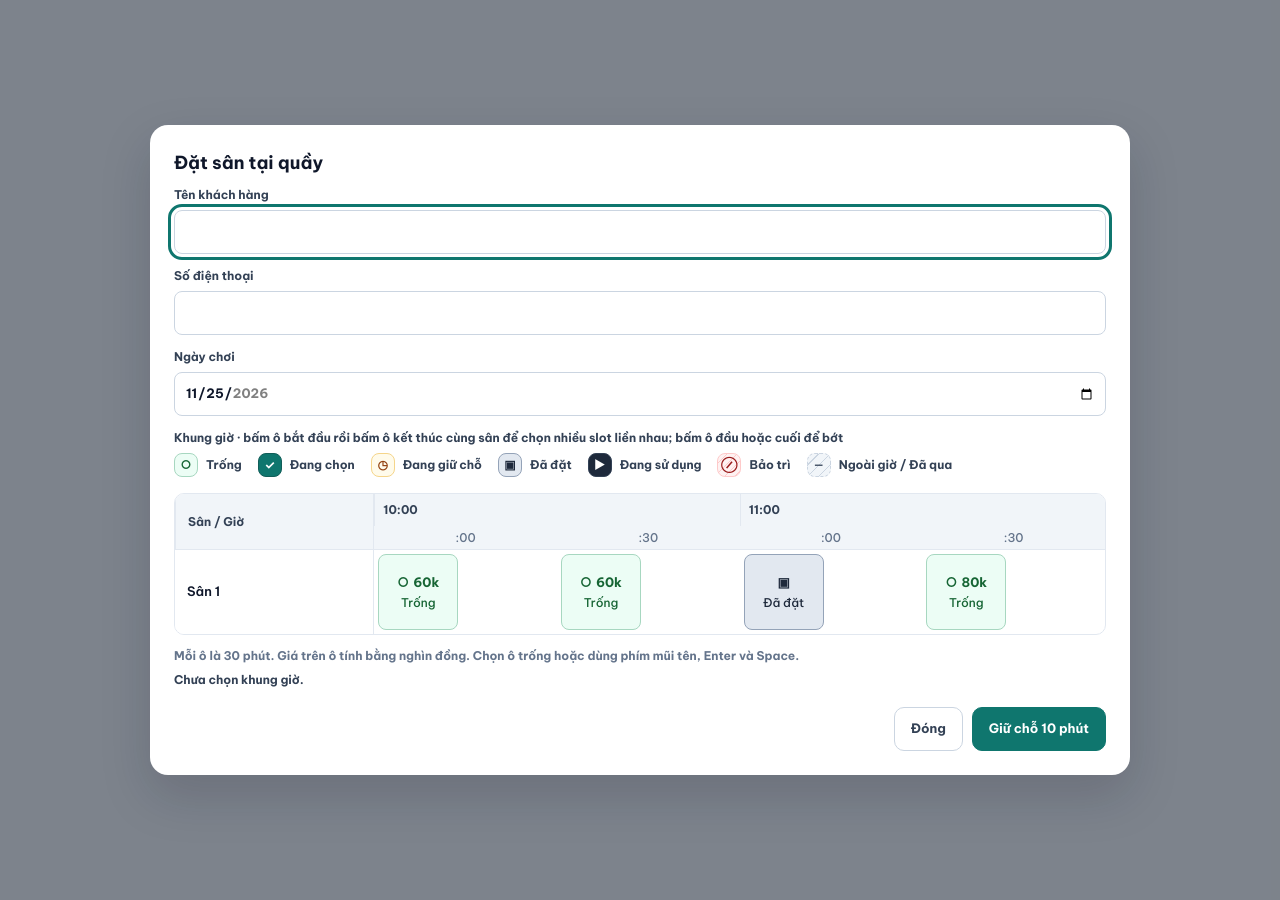
Test: giữ chỗ › slot vừa bị người khác đặt (MSG28) thì báo ở bảng và tải lại lịch
The width and height of the screenshot is (1280, 900).
expect the table named "Lịch sân theo khung 30 phút" is shown: met, box [175,494,1105,634]
In the field labelled "Tên khách hàng": (640, 232) [174,210,1106,254], type "  Nguyễn   Văn An "
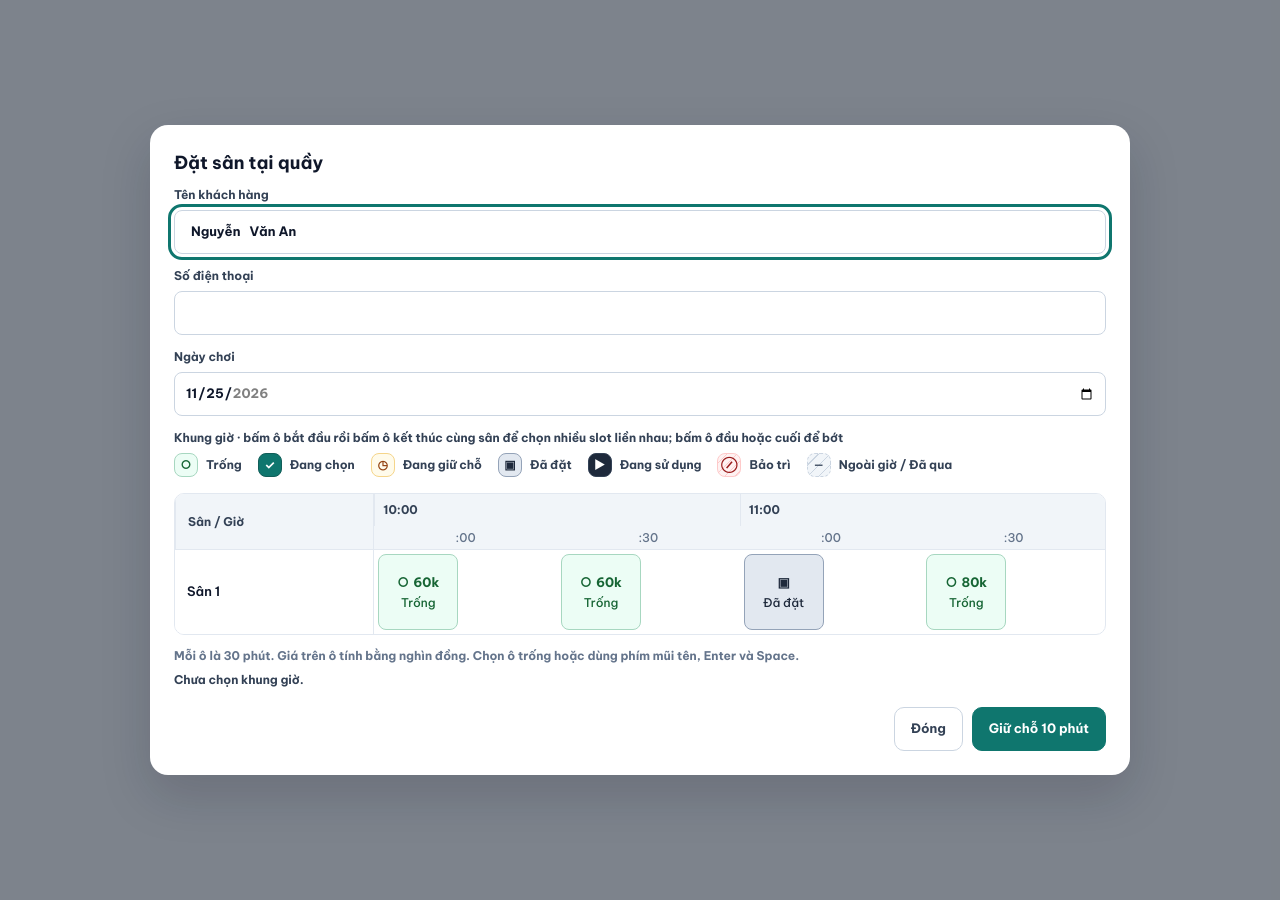
In the field labelled "Số điện thoại": (640, 313) [174,291,1106,335], type "0912345678"
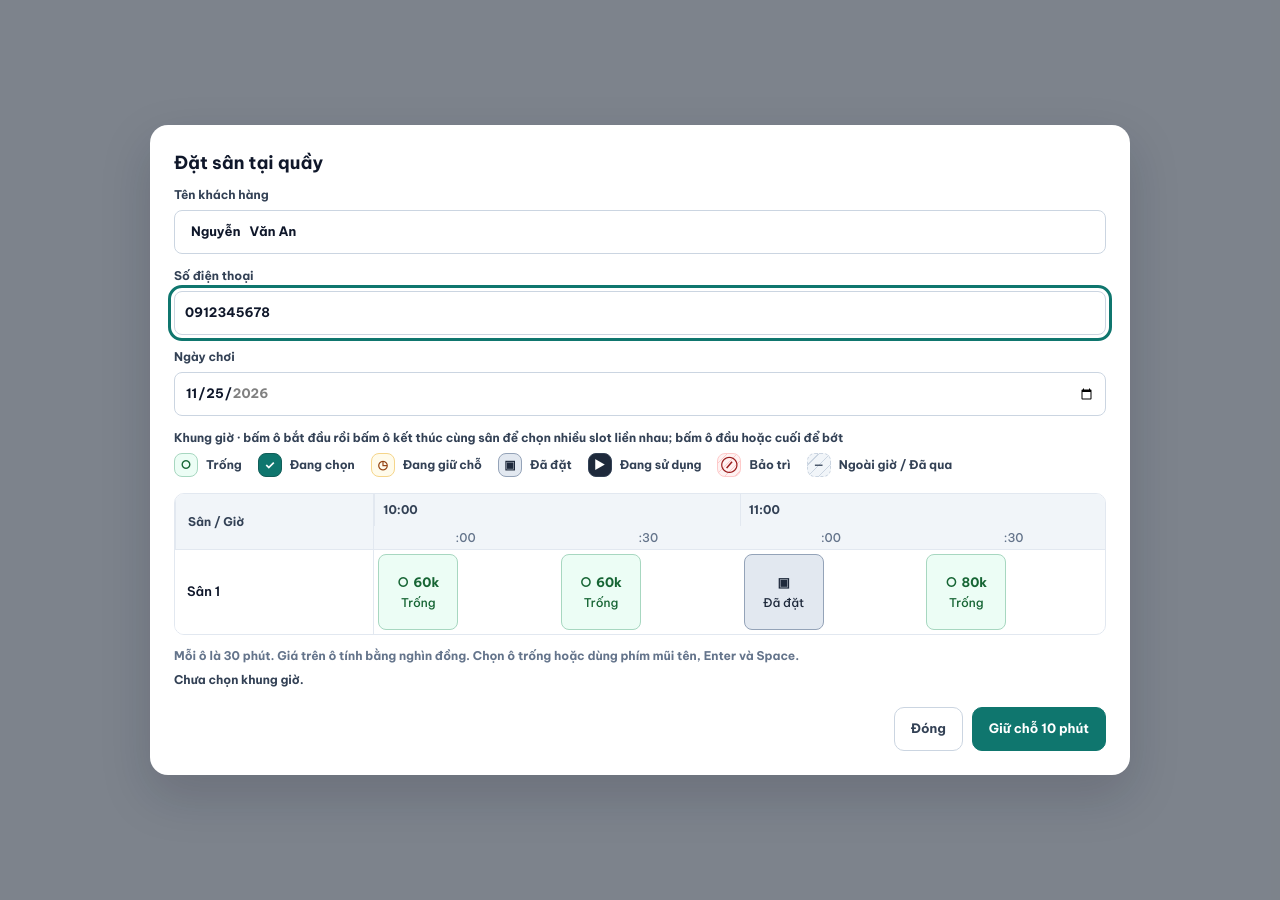
Click the 1st button "○ 60k Trống": (418, 592) [378,554,458,630]
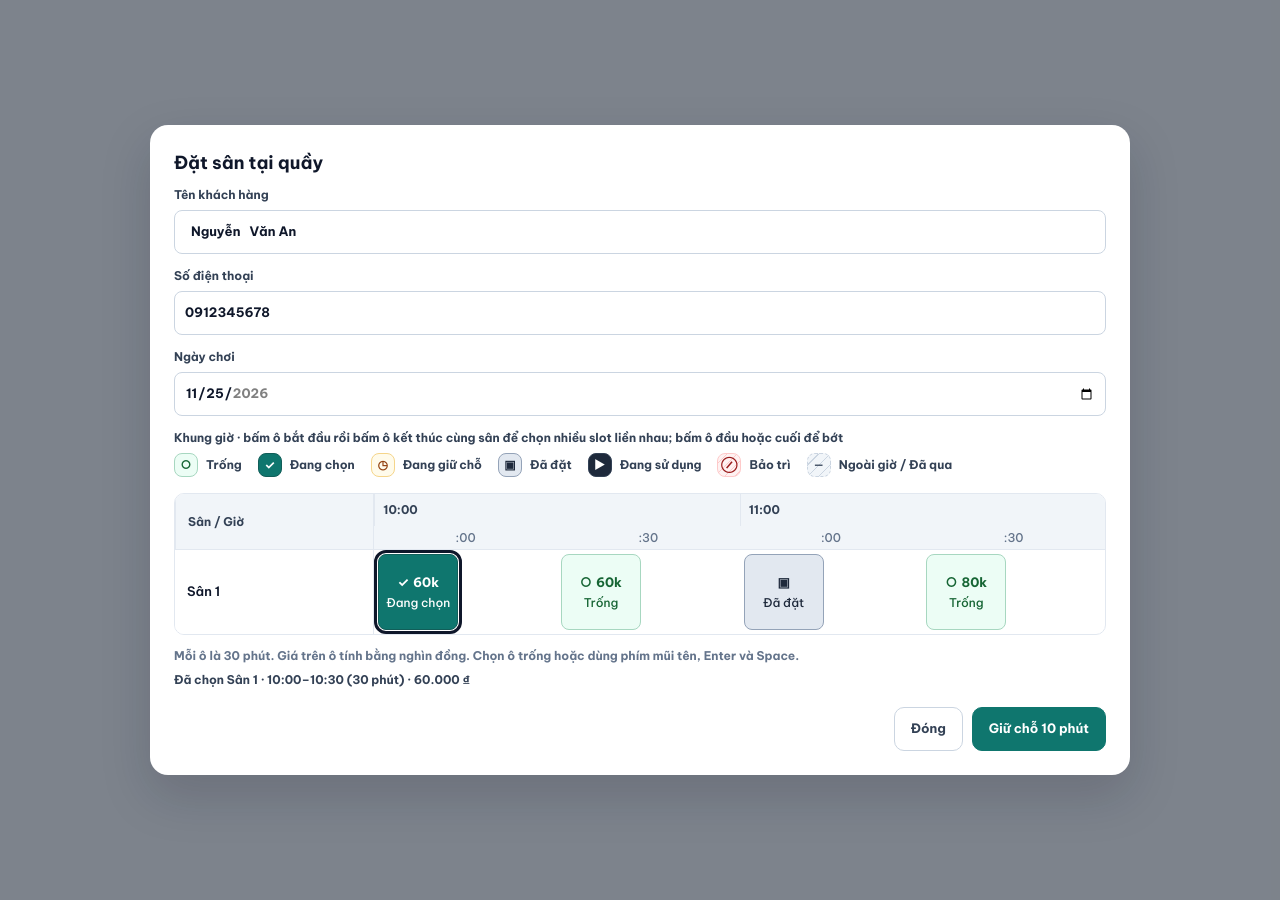
Click the button "Giữ chỗ 10 phút": (1039, 729) [972,707,1106,751]
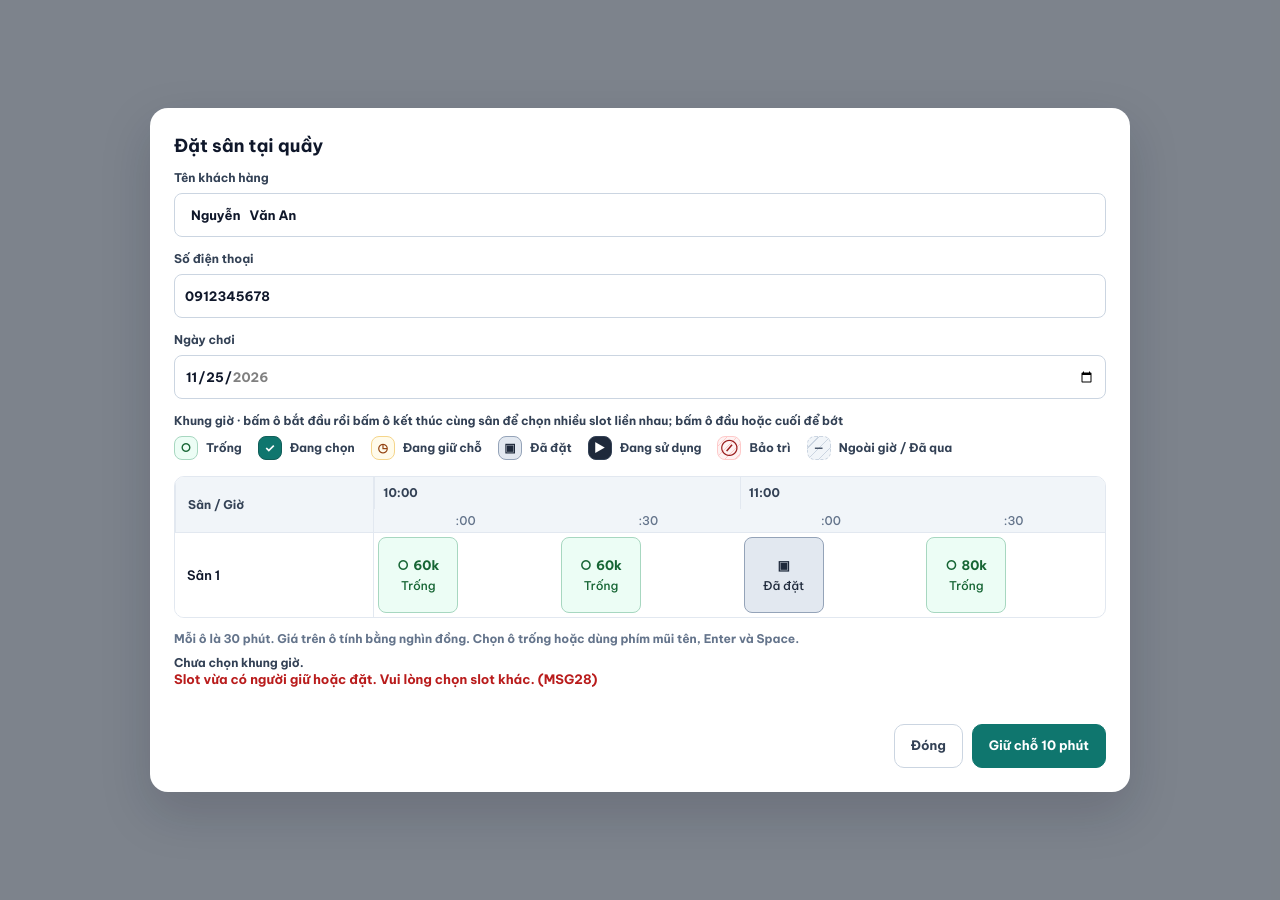
expect the text "Slot vừa có người giữ hoặc đặt. Vui lòng chọn slot khác. (MSG28)" is shown: met, box [174,671,598,687]
